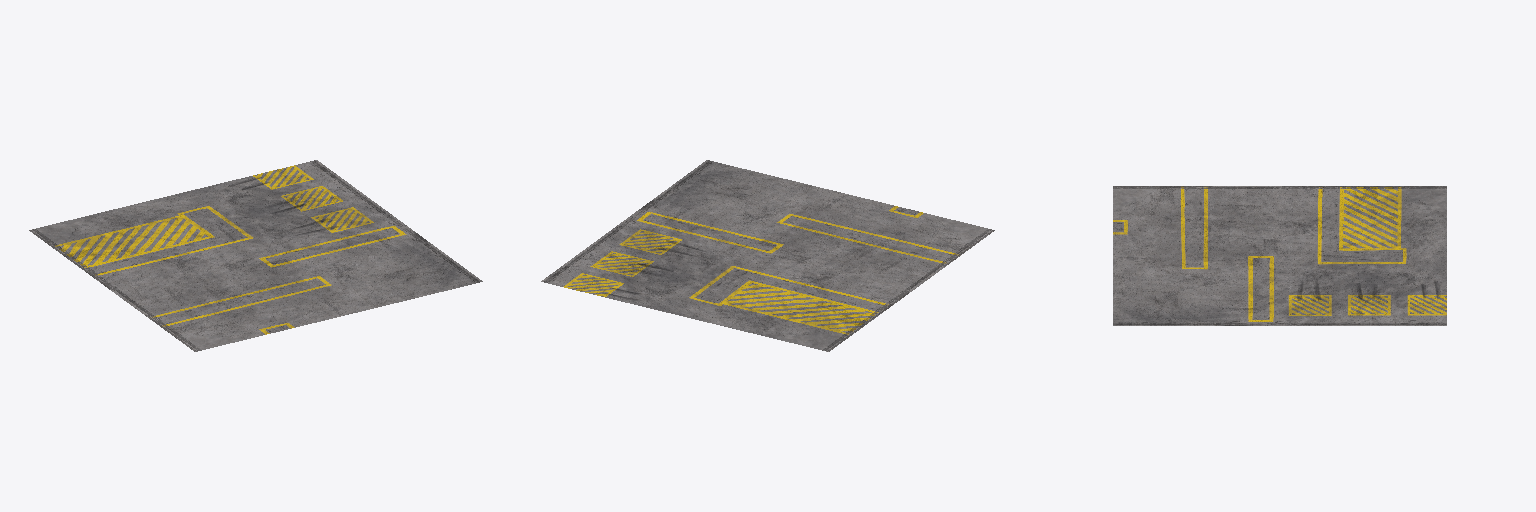
3 renders of one model, left to right at view 1: azimuth 30°, elevation 25°; view 2: azimuth 150°, elevation 25°; view 3: azimuth 270°, elevation 25°, orthographic.
Parts seen in each view (by area): view 1: Plane; view 2: Plane; view 3: Plane.
Boxes of the visible parts, <box> form: Plane: <box>29,160,482,351</box>; Plane: <box>541,160,994,351</box>; Plane: <box>1113,186,1446,325</box>.
Size of the model in its own units: 120 by 0 by 120.
1 materials, 1 textured.